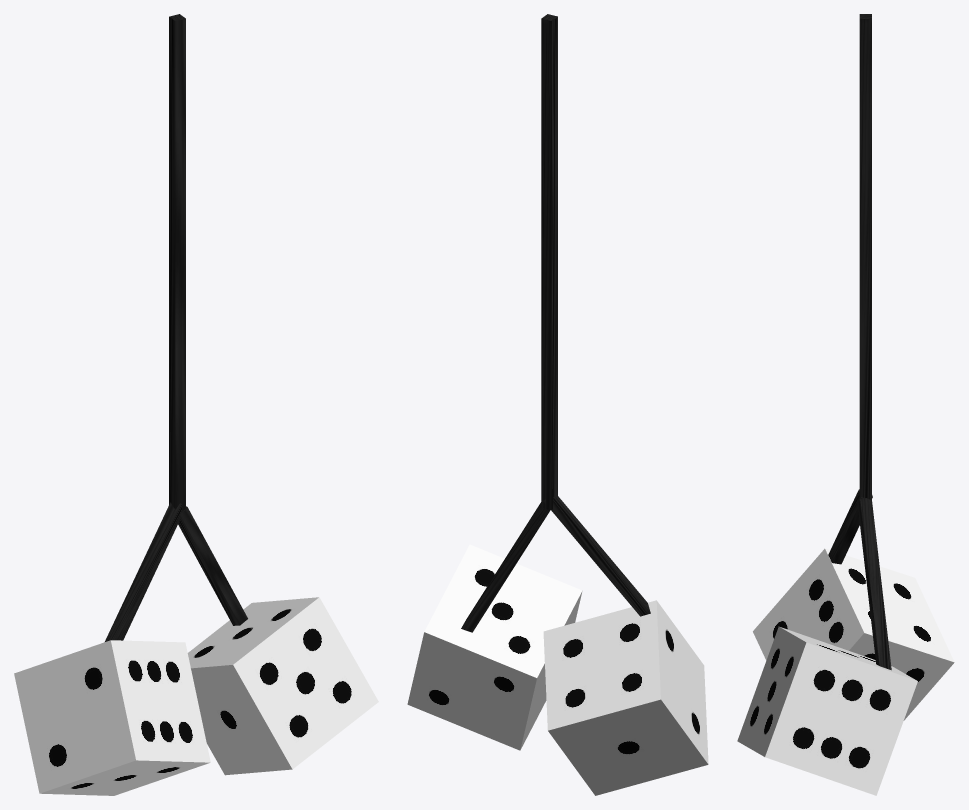
File: dice.obj
3 views of the same model, side by side, from view 1: azimuth 30°, elevation 25°; view 2: azimuth 150°, elevation 25°; view 3: azimuth 270°, elevation 25° (orthographic). The views are drawn at different scales.
Visible parts, largest first — view 1: Dice2_Dice.001, Dice1_Dice, RopeUp_Cube.003, Rope2_Cube.002, Rope1_Cube; view 2: Dice2_Dice.001, Dice1_Dice, RopeUp_Cube.003, Rope2_Cube.002, Rope1_Cube; view 3: Dice1_Dice, Dice2_Dice.001, RopeUp_Cube.003, Rope1_Cube, Rope2_Cube.002.
Part boxes in pixels (x1,y1,x2,y2): Dice2_Dice.001: (14,640,210,795); Dice1_Dice: (187,597,378,775); RopeUp_Cube.003: (169,14,185,511); Rope2_Cube.002: (105,502,182,641); Rope1_Cube: (178,506,247,625); Dice2_Dice.001: (543,600,708,795); Dice1_Dice: (407,544,582,750); RopeUp_Cube.003: (541,14,557,510); Rope2_Cube.002: (543,496,650,616); Rope1_Cube: (461,502,550,632); Dice1_Dice: (737,626,917,795); Dice2_Dice.001: (753,548,954,720); RopeUp_Cube.003: (859,14,871,500); Rope1_Cube: (857,498,891,670); Rope2_Cube.002: (828,489,872,564).
Size of the model in its own units: 0.156 by 0.3838 by 0.1002.
Materials: 5 (5 with a texture image).
